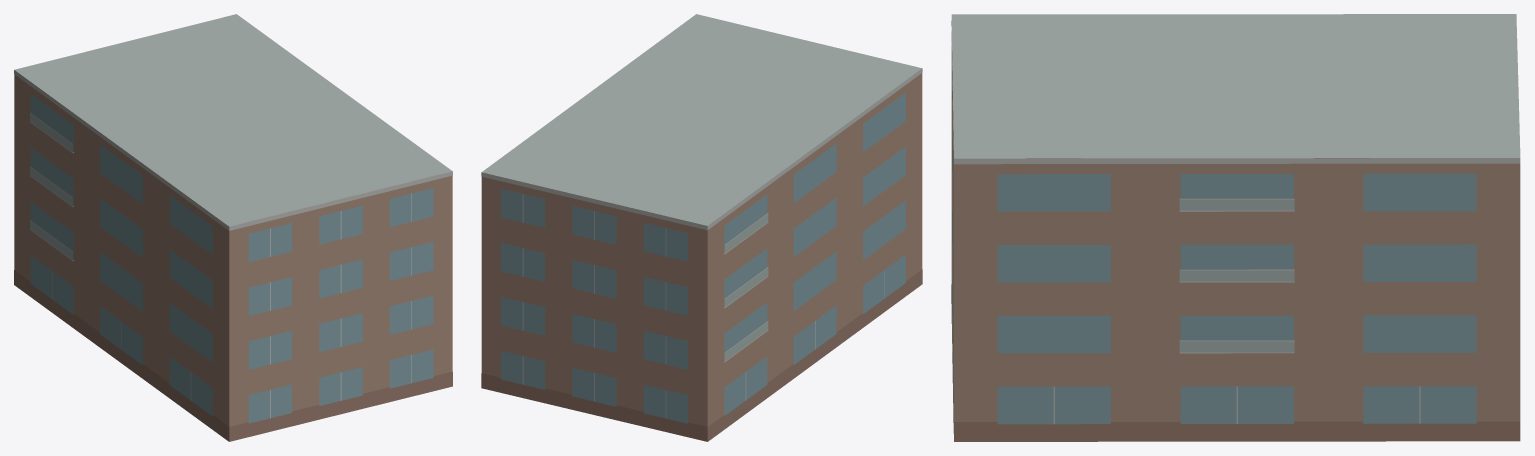
The model's file is survey-upis-32634935.glb.
3 renders of one model, left to right at view 1: azimuth 30°, elevation 25°; view 2: azimuth 150°, elevation 25°; view 3: azimuth 270°, elevation 25°, orthographic. The views are drawn at different scales.
Parts seen in each view (by area): view 1: survey-upis-32634935.tmp; view 2: survey-upis-32634935.tmp; view 3: survey-upis-32634935.tmp.
Part boxes in pixels (box(x1,y1,x2,y2)): survey-upis-32634935.tmp: box(14, 14, 452, 441); survey-upis-32634935.tmp: box(481, 14, 922, 441); survey-upis-32634935.tmp: box(951, 14, 1520, 441).
Size of the model in its own units: 13.4 by 12.2 by 22.21.
